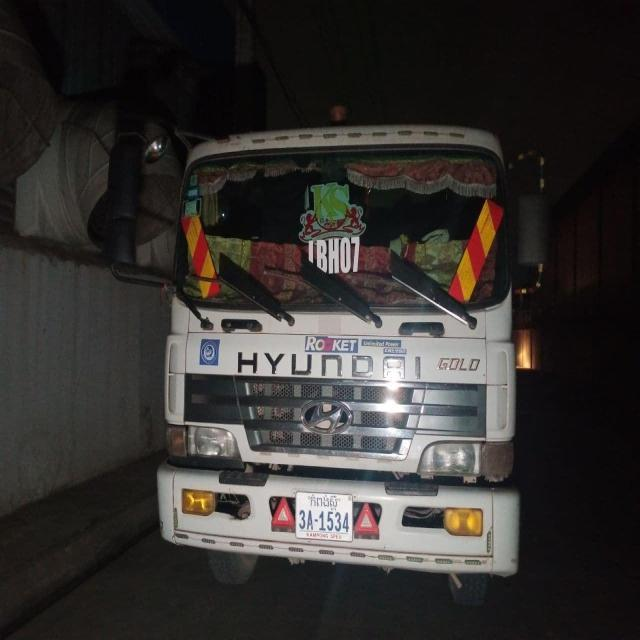Kampong_Speu: (311, 494, 339, 510)
